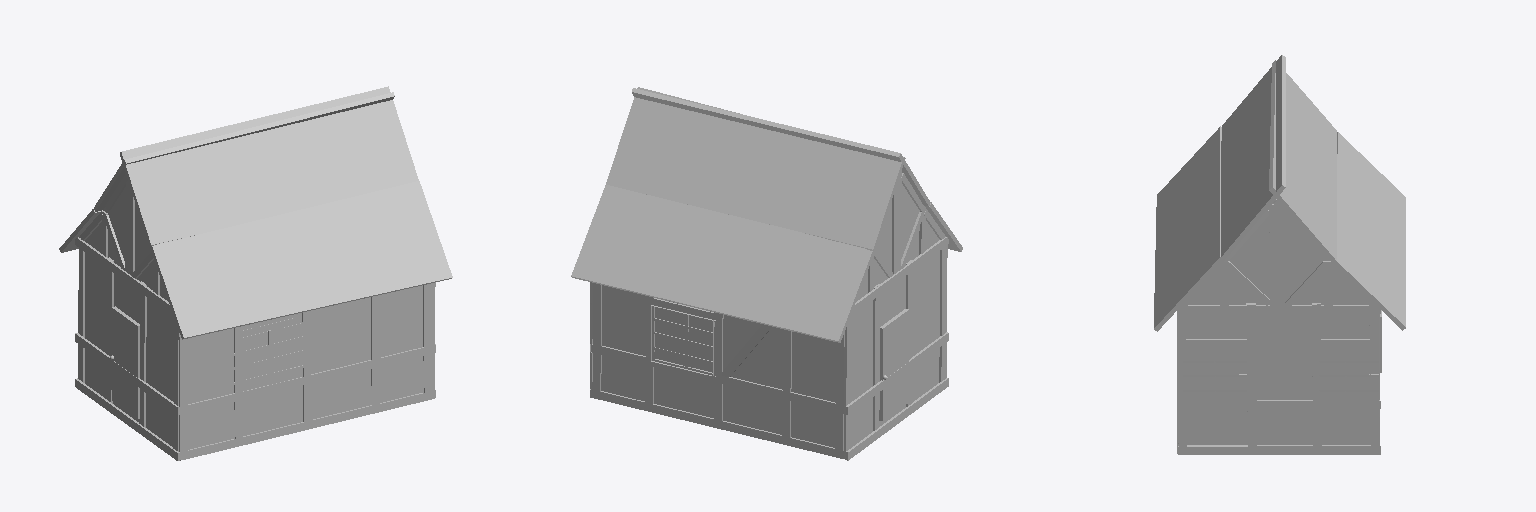
Rendered from town house.obj.
3 renders of one model, left to right at view 1: azimuth 30°, elevation 25°; view 2: azimuth 150°, elevation 25°; view 3: azimuth 270°, elevation 25°, orthographic.
Parts seen in each view (by area): view 1: Cube.002; view 2: Cube.002; view 3: Cube.002.
Boxes of the visible parts, box(x1,y1,x2,y2) form: Cube.002: box(59, 86, 452, 460); Cube.002: box(571, 87, 962, 460); Cube.002: box(1154, 55, 1405, 454).
Size of the model in its own units: 4.36 by 4.24 by 3.57.